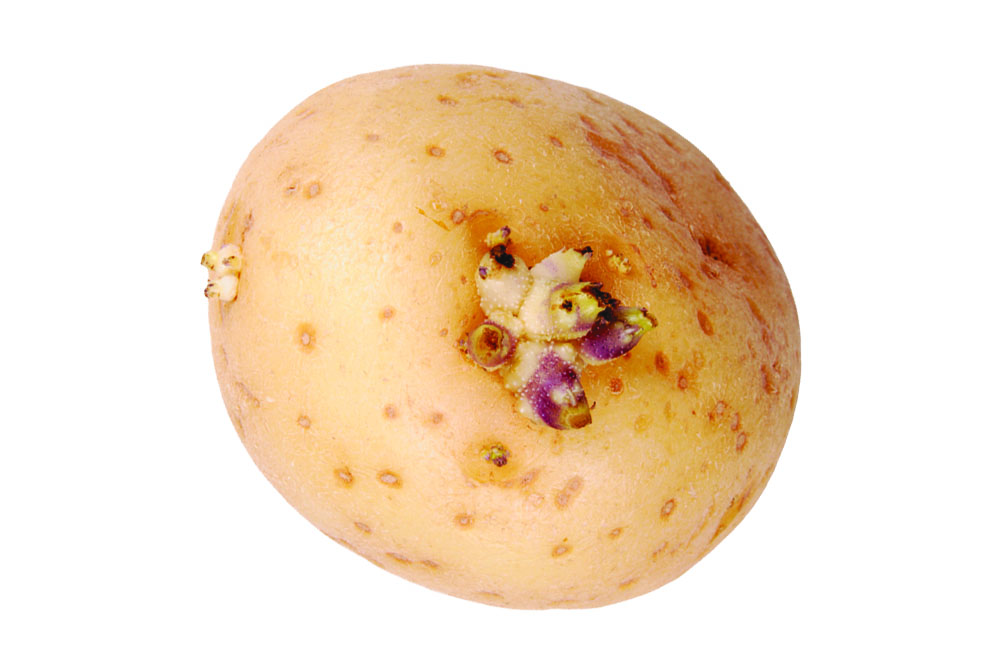potato: (194, 36, 791, 630)
